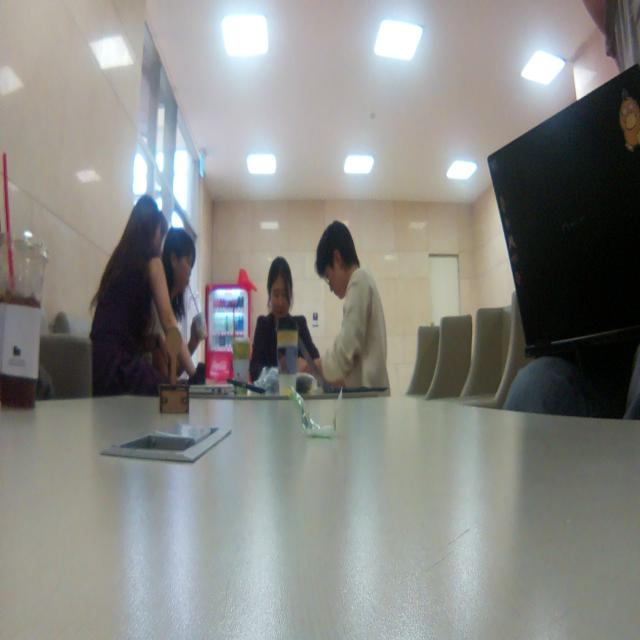target: (158, 325, 190, 414)
